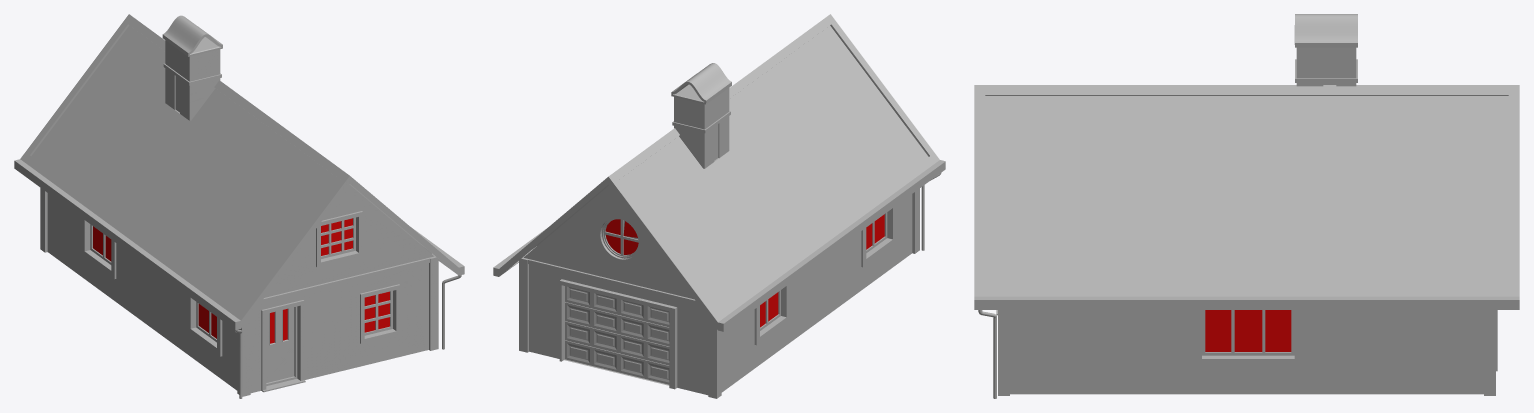
Rendered from House_3_Low.fbx.
3 views of the same model, side by side, from view 1: azimuth 30°, elevation 25°; view 2: azimuth 150°, elevation 25°; view 3: azimuth 270°, elevation 25° (orthographic). The views are drawn at different scales.
Parts seen in each view (by area): view 1: House_3_Low; view 2: House_3_Low; view 3: House_3_Low.
Part boxes in pixels (left/top/right/bottom): House_3_Low: left=14, top=14, right=464, bottom=398; House_3_Low: left=493, top=14, right=945, bottom=398; House_3_Low: left=974, top=14, right=1519, bottom=398.
Size of the model in its own units: 1498 by 1586 by 2500.
